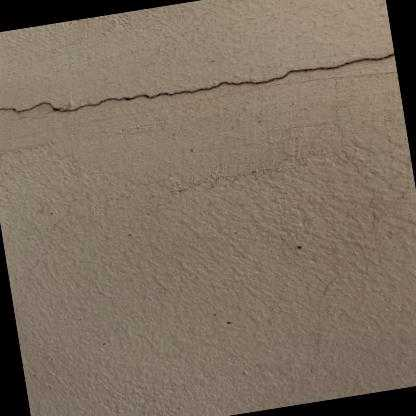crack: (0, 52, 394, 111)
